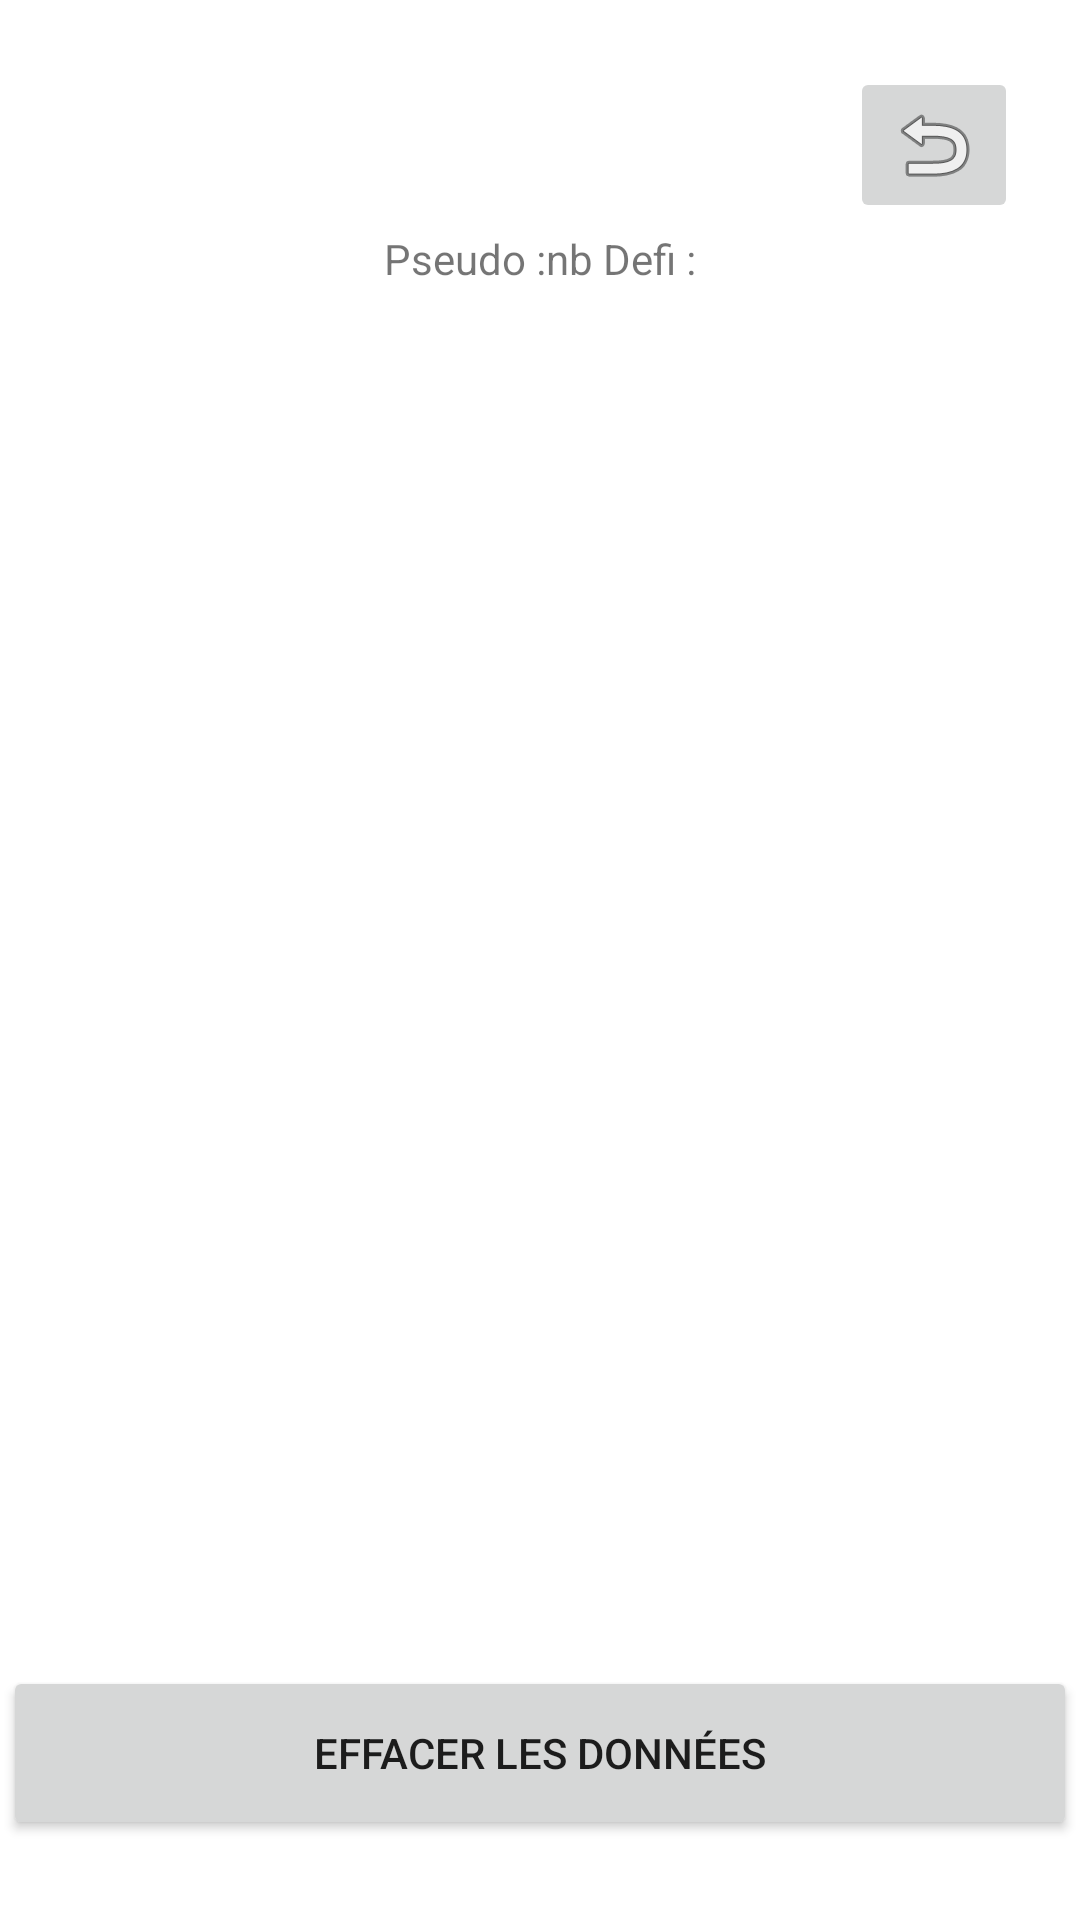

Icons on this 1080*1920 Android screen, each with the point to tap as (x,y):
revert: (934,145)
